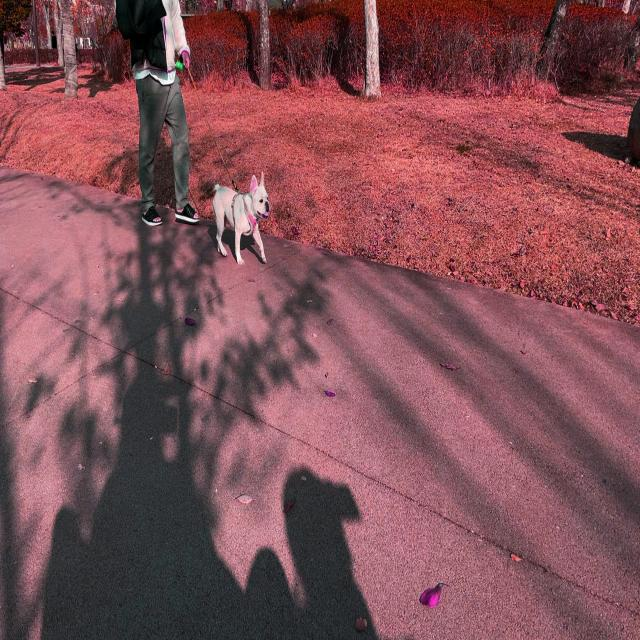Leashed_Dog: (172, 43, 270, 267)
